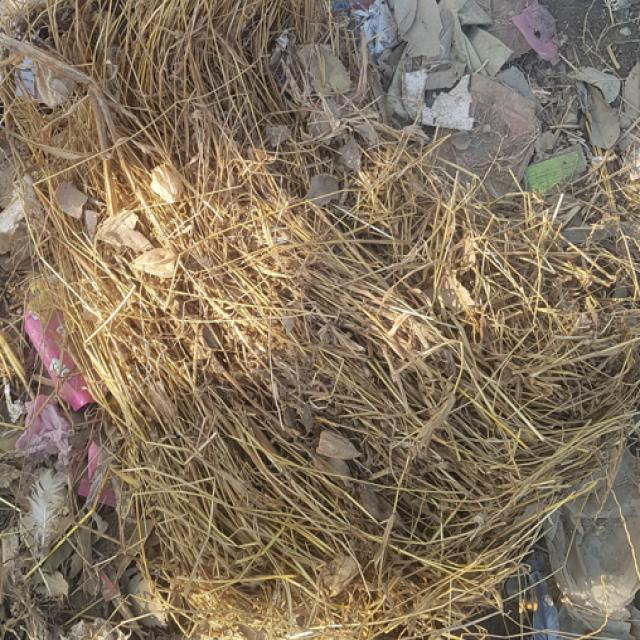paper: (14, 22, 585, 592)
